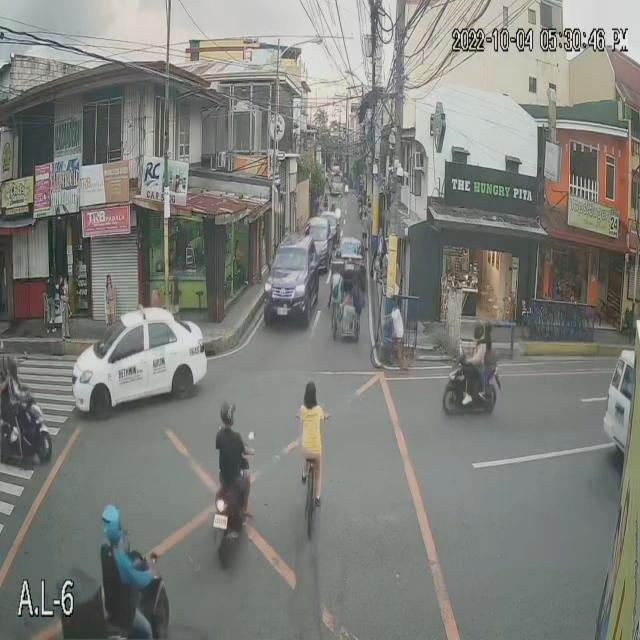Full-Faced: (468, 322, 482, 354), (103, 501, 115, 532), (333, 244, 343, 263), (484, 324, 492, 343)
Half-Faced: (222, 397, 235, 418)
Not-Wearing-Helmet: (304, 384, 316, 410)
